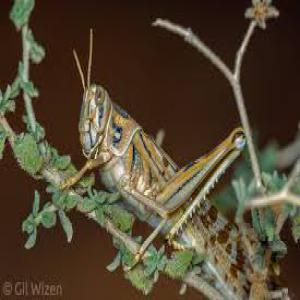locust: (75, 57, 285, 299)
